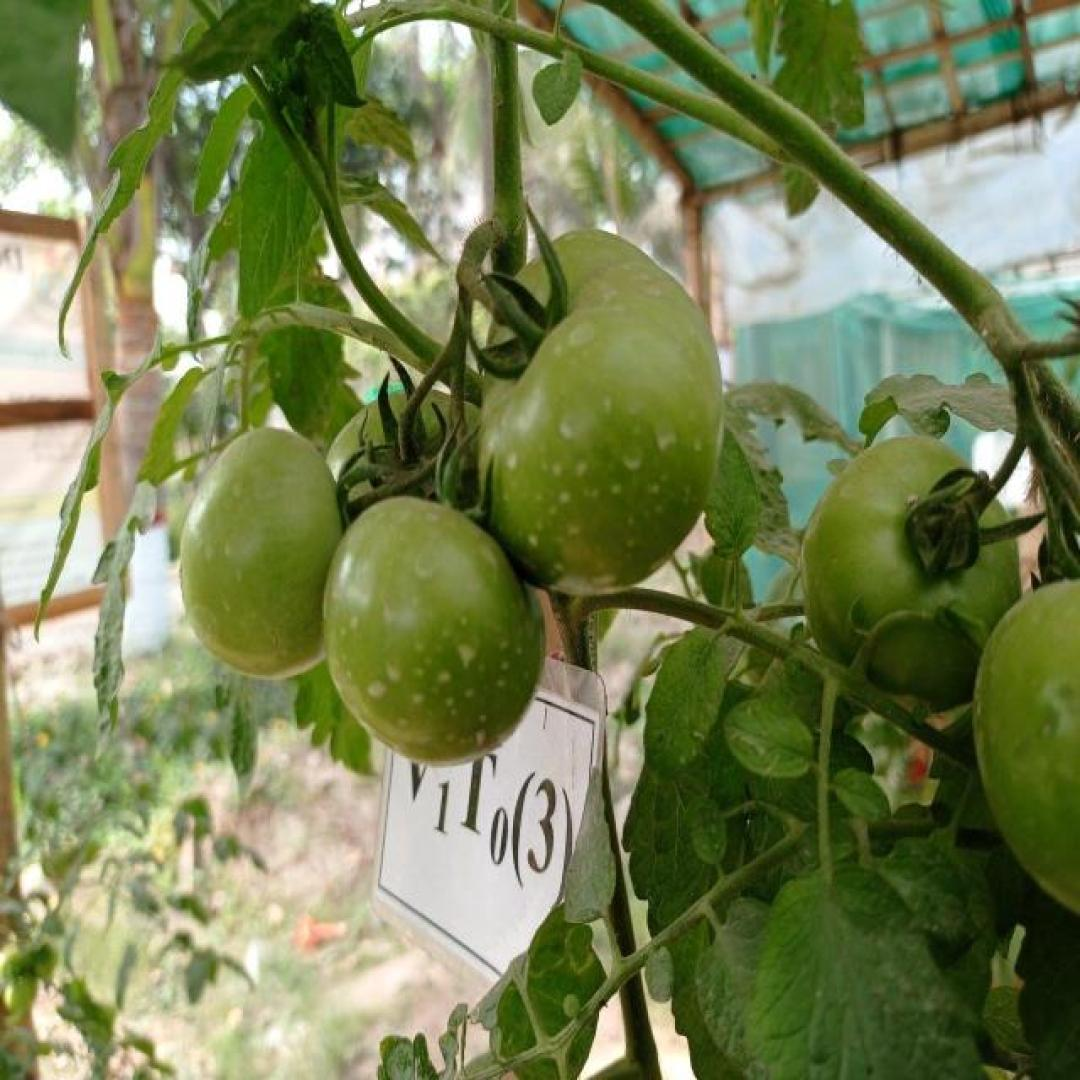mentah: (472, 228, 725, 596), (795, 432, 1024, 724), (319, 491, 548, 768), (175, 425, 346, 678)
